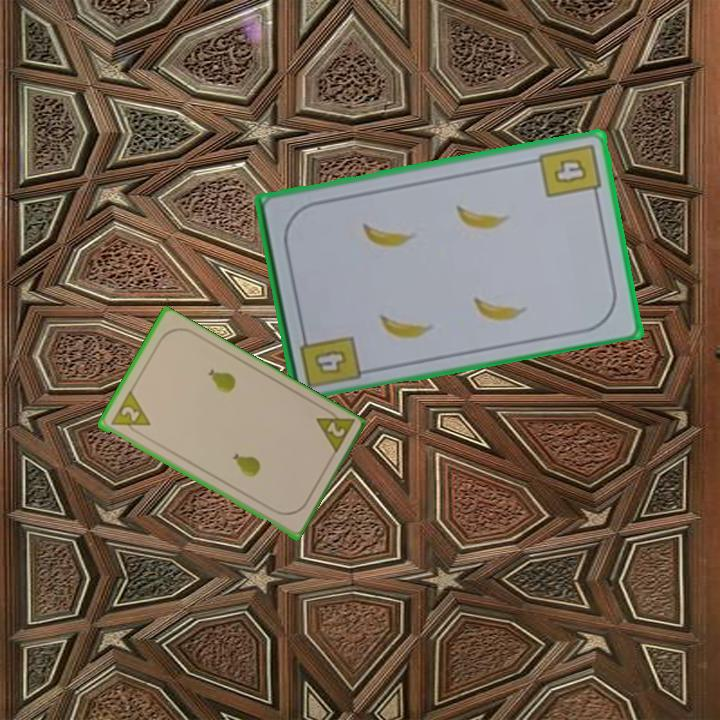2p: (312, 403, 357, 458), (117, 403, 142, 425)
4b: (535, 139, 603, 203), (295, 328, 363, 391)
